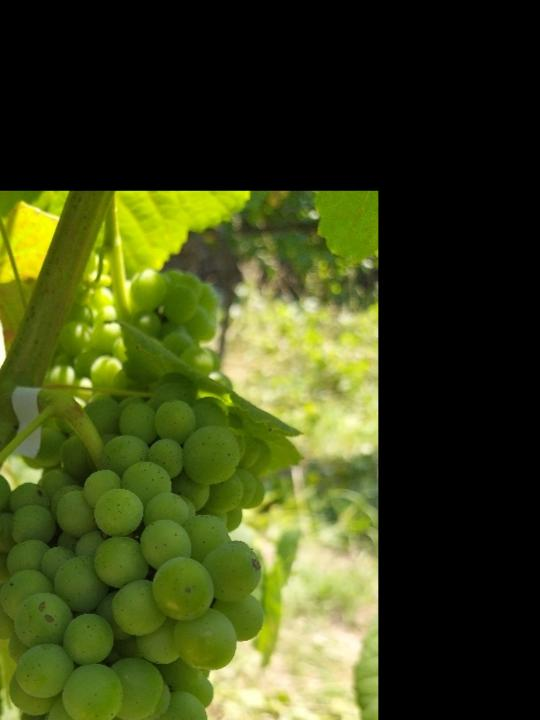grape: (0, 373, 265, 720)
